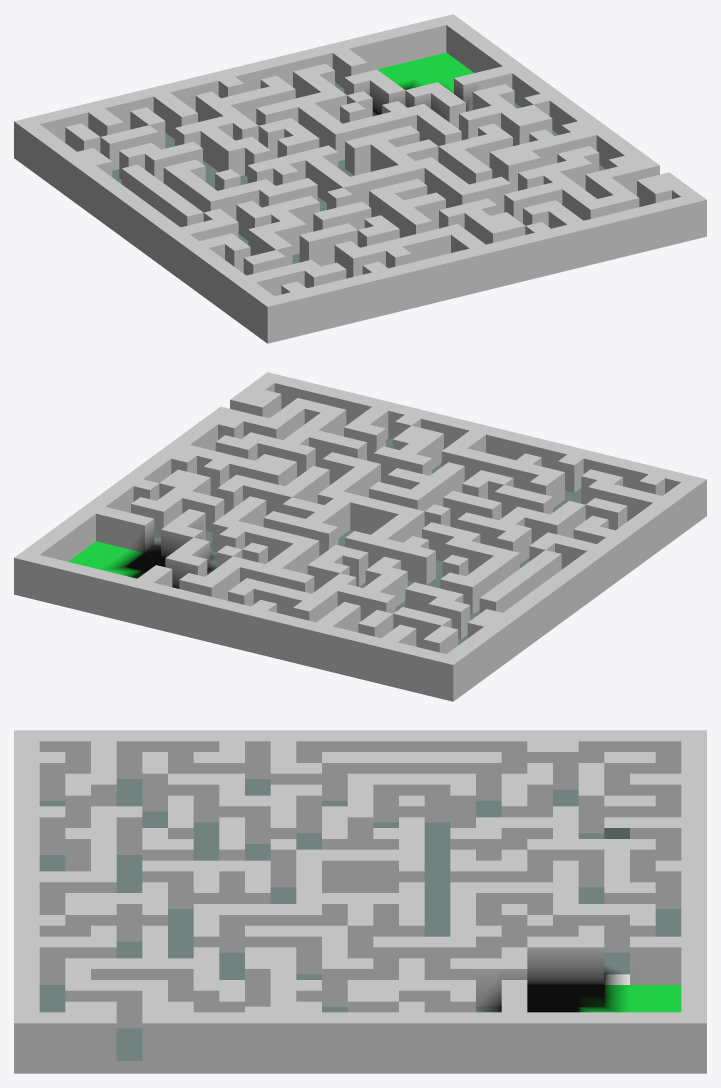
File: Lab3.1.fbx
3 views of the same model, one above another, from view 1: azimuth 30°, elevation 25°; view 2: azimuth 150°, elevation 25°; view 3: azimuth 270°, elevation 25° (orthographic). The views are drawn at different scales.
Parts seen in each view (by area): view 1: Cube; view 2: Cube; view 3: Cube.
Boxes of the visible parts, bbox=[...] form: Cube: bbox=[14, 14, 706, 343]; Cube: bbox=[14, 372, 706, 701]; Cube: bbox=[14, 730, 706, 1073].
Bounding box in the file's own units: 10000 × 800 × 10000.
